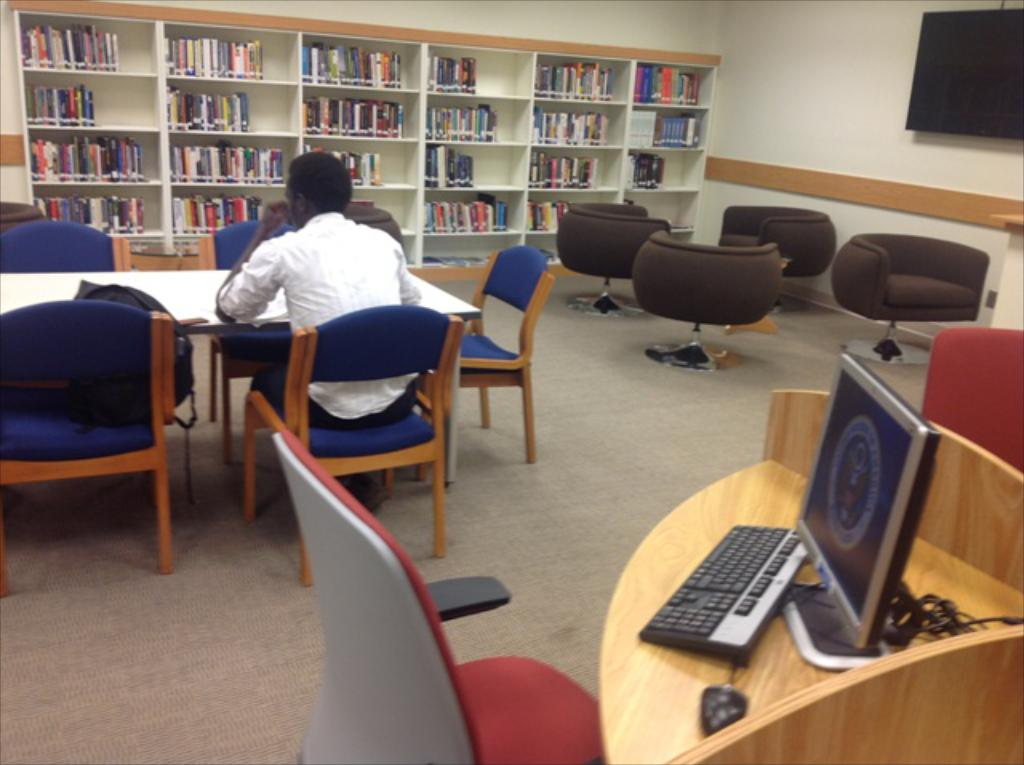Chair: (272, 424, 610, 763), (240, 301, 464, 589), (0, 296, 174, 597), (2, 216, 136, 386), (829, 232, 990, 370), (627, 230, 782, 371), (203, 221, 296, 450), (462, 243, 554, 466), (920, 322, 1022, 471), (558, 200, 674, 317), (720, 205, 838, 312), (0, 202, 45, 232)
